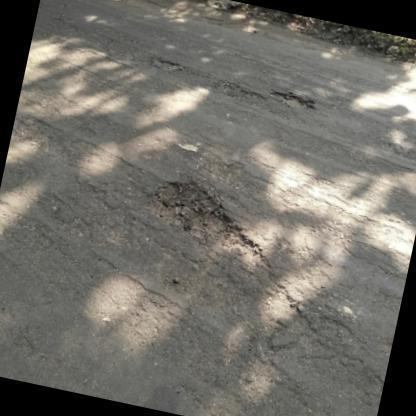pothole: (148, 178, 250, 247), (273, 87, 317, 110)
